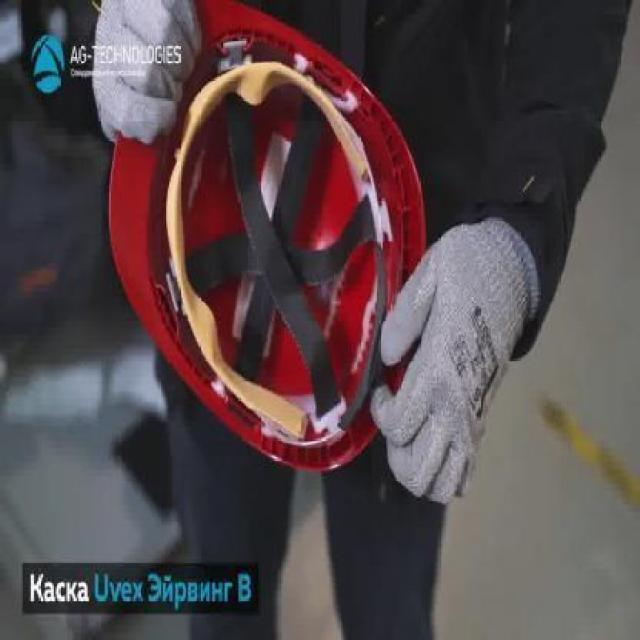apron: (370, 211, 538, 507), (90, 0, 204, 149)
